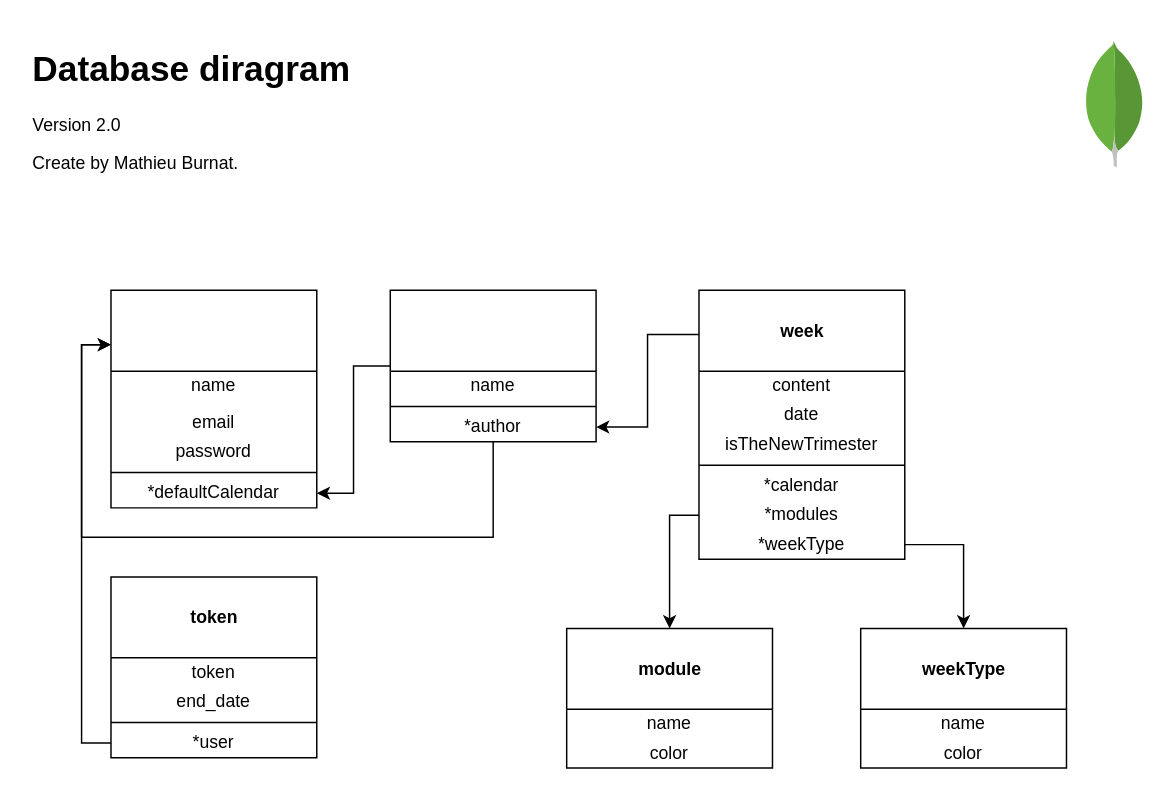
This 1170x794 diagram has some shape labels left out. The shapes that lost their labels are listed below. From the top down, each one's box as (x1, y1, x2, y2) in pixels, then its label:
(389, 289, 596, 442): calendar
(110, 289, 317, 508): user
